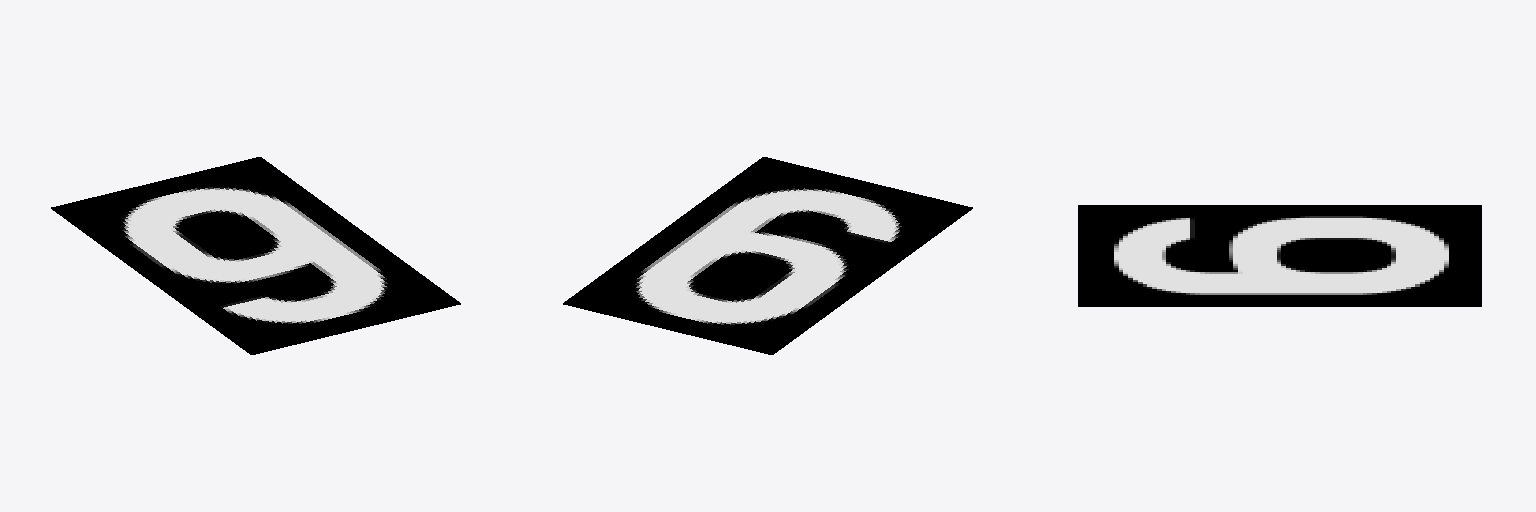
The picture shows the model from 3 angles: view 1: azimuth 30°, elevation 25°; view 2: azimuth 150°, elevation 25°; view 3: azimuth 270°, elevation 25°; orthographic projection.
Parts seen in each view (by area): view 1: Decal_9_Plane.023; view 2: Decal_9_Plane.023; view 3: Decal_9_Plane.023.
Boxes of the visible parts, <box> form: Decal_9_Plane.023: <box>51,157,460,354</box>; Decal_9_Plane.023: <box>563,157,972,354</box>; Decal_9_Plane.023: <box>1078,205,1481,306</box>.
Size of the model in its own units: 0.7681 by 0 by 1.27.
Materials: 1 (1 with a texture image).